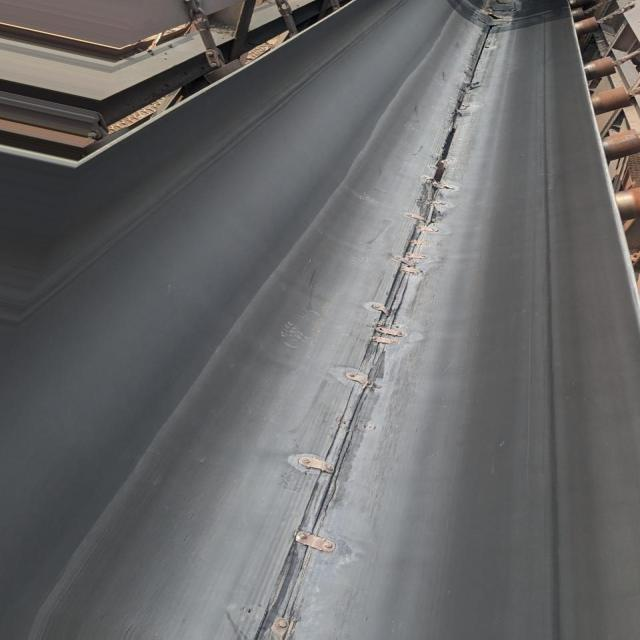Tear: (426, 23, 502, 185)
